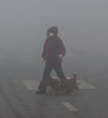person: (34, 25, 70, 97)
